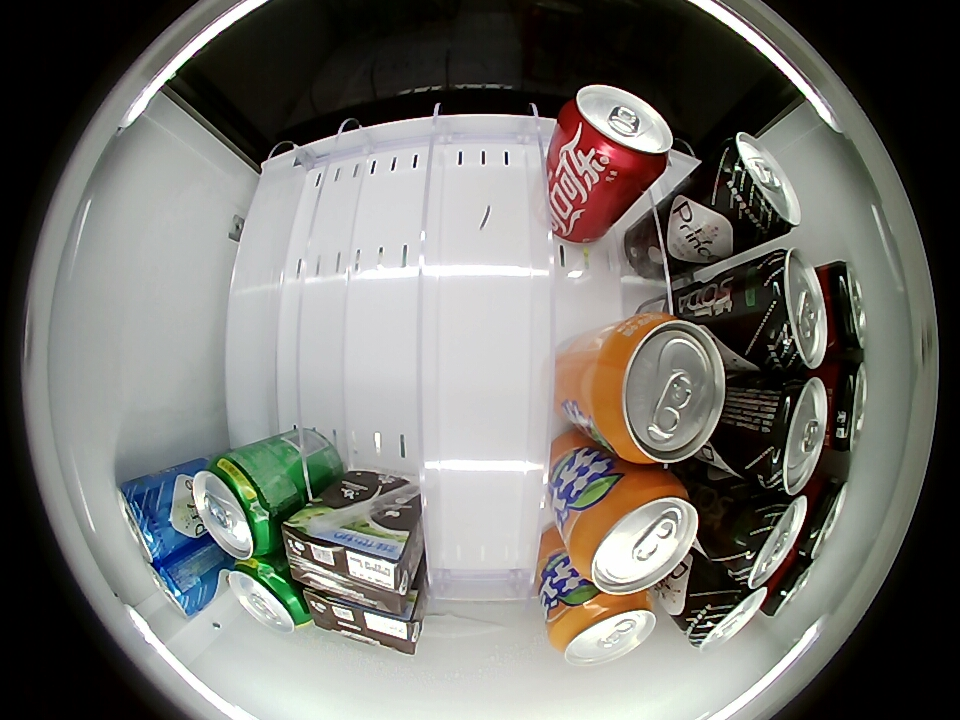fenda: (587, 314, 728, 465), (567, 472, 699, 595), (549, 591, 657, 667)
kele: (559, 84, 673, 179)
lingdukele: (816, 260, 866, 356), (794, 473, 849, 560), (822, 359, 867, 452), (763, 553, 817, 618)
qingdaowangzi-1: (732, 376, 828, 495), (742, 248, 826, 374), (712, 131, 801, 239), (719, 491, 806, 588), (681, 575, 768, 651)
qingdaowangzi-2: (116, 473, 183, 564), (144, 552, 218, 617)
weitanai2: (281, 508, 418, 609), (306, 589, 424, 655)
xuebi2: (192, 454, 282, 560), (226, 557, 312, 634)
